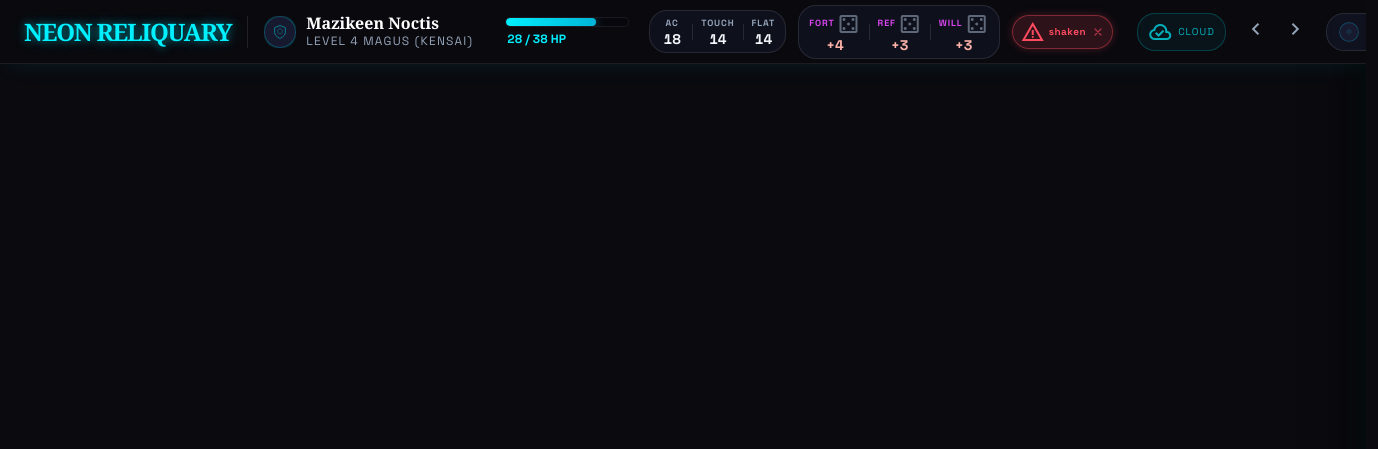
Test: TacticalHUD Component › Suite 3: Tactical HP Popover (Damage & Healing Rules) › closes popover when close button is clicked
Click the button with test id "hp-popover-trigger" at (567, 32), box [497,12,637,50]
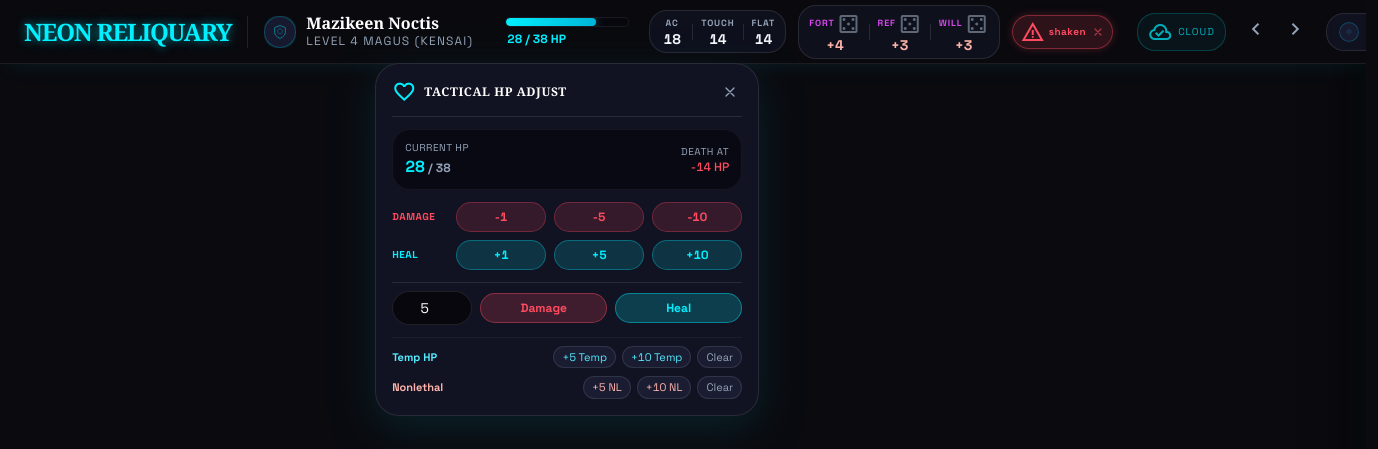
Expected: the element with test id "hp-popover" is shown, [375,62,759,416]
Click the button named "Close HP popover" at (730, 92), box [718,80,742,104]
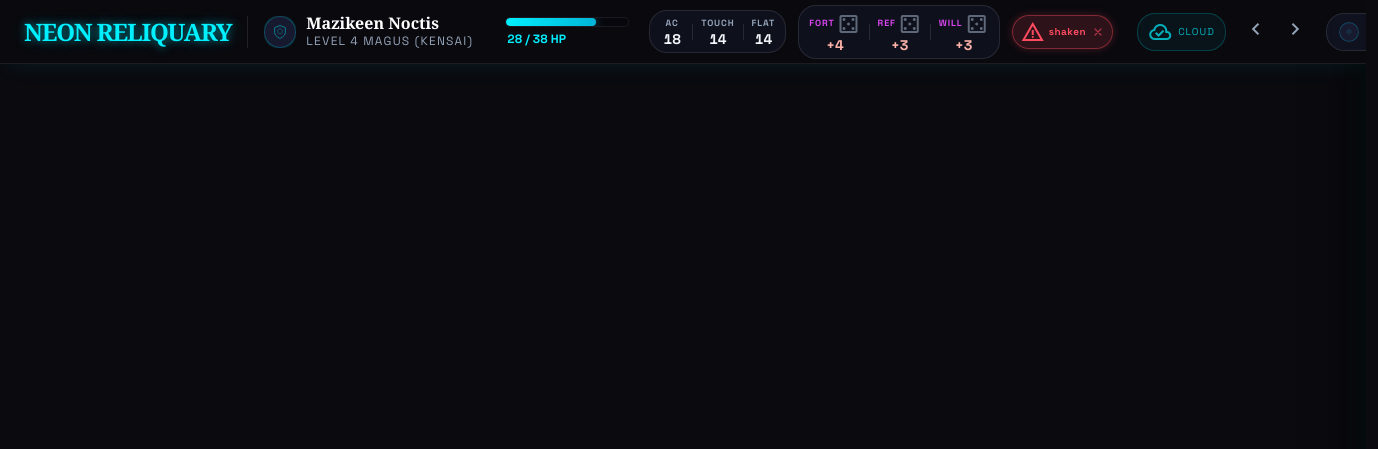
Expected: the element with test id "hp-popover" is gone
